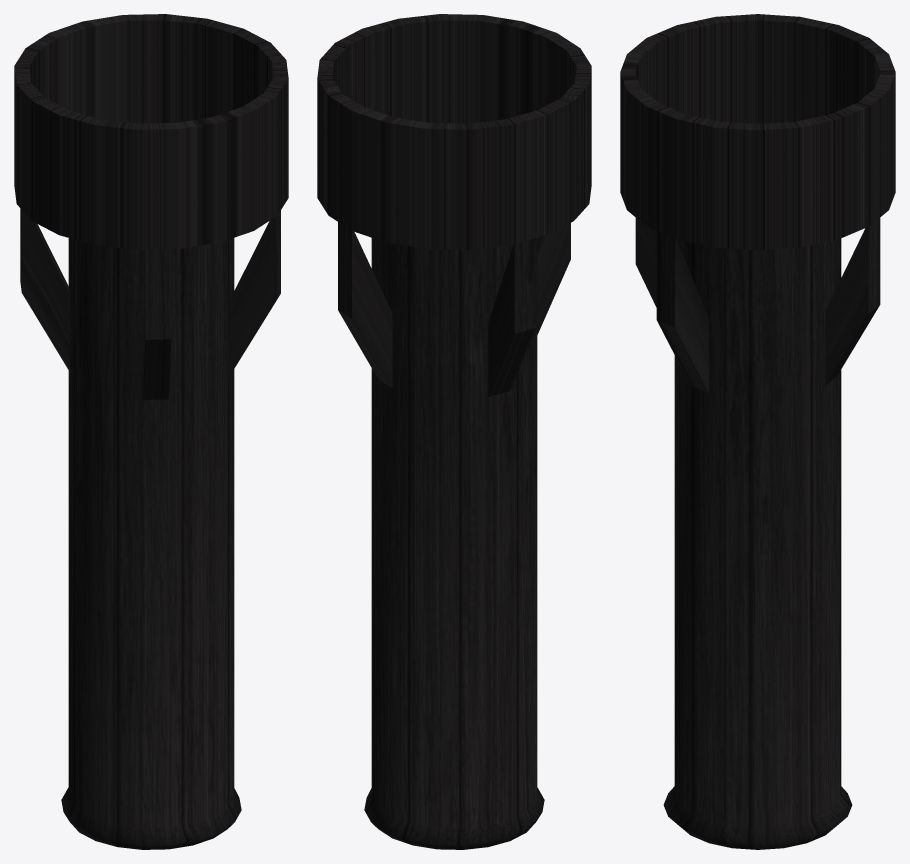
Rendered from tower_fixed.FBX.
The picture shows the model from 3 angles, left to right: view 1: azimuth 30°, elevation 25°; view 2: azimuth 150°, elevation 25°; view 3: azimuth 270°, elevation 25°; orthographic projection.
Visible parts, largest first — view 1: Cylinder001; view 2: Cylinder001; view 3: Cylinder001.
Boxes of the visible parts, box(x1,y1,x2,y2) form: Cylinder001: box(14, 14, 288, 849); Cylinder001: box(317, 14, 591, 849); Cylinder001: box(620, 14, 895, 849).
Bounding box in the file's own units: 162 × 481 × 162.
